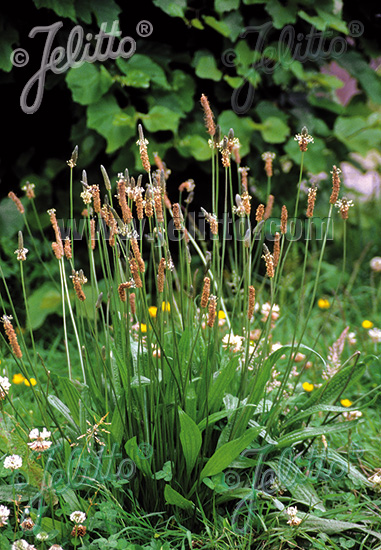buckhorn plantain: (21, 94, 350, 506)
